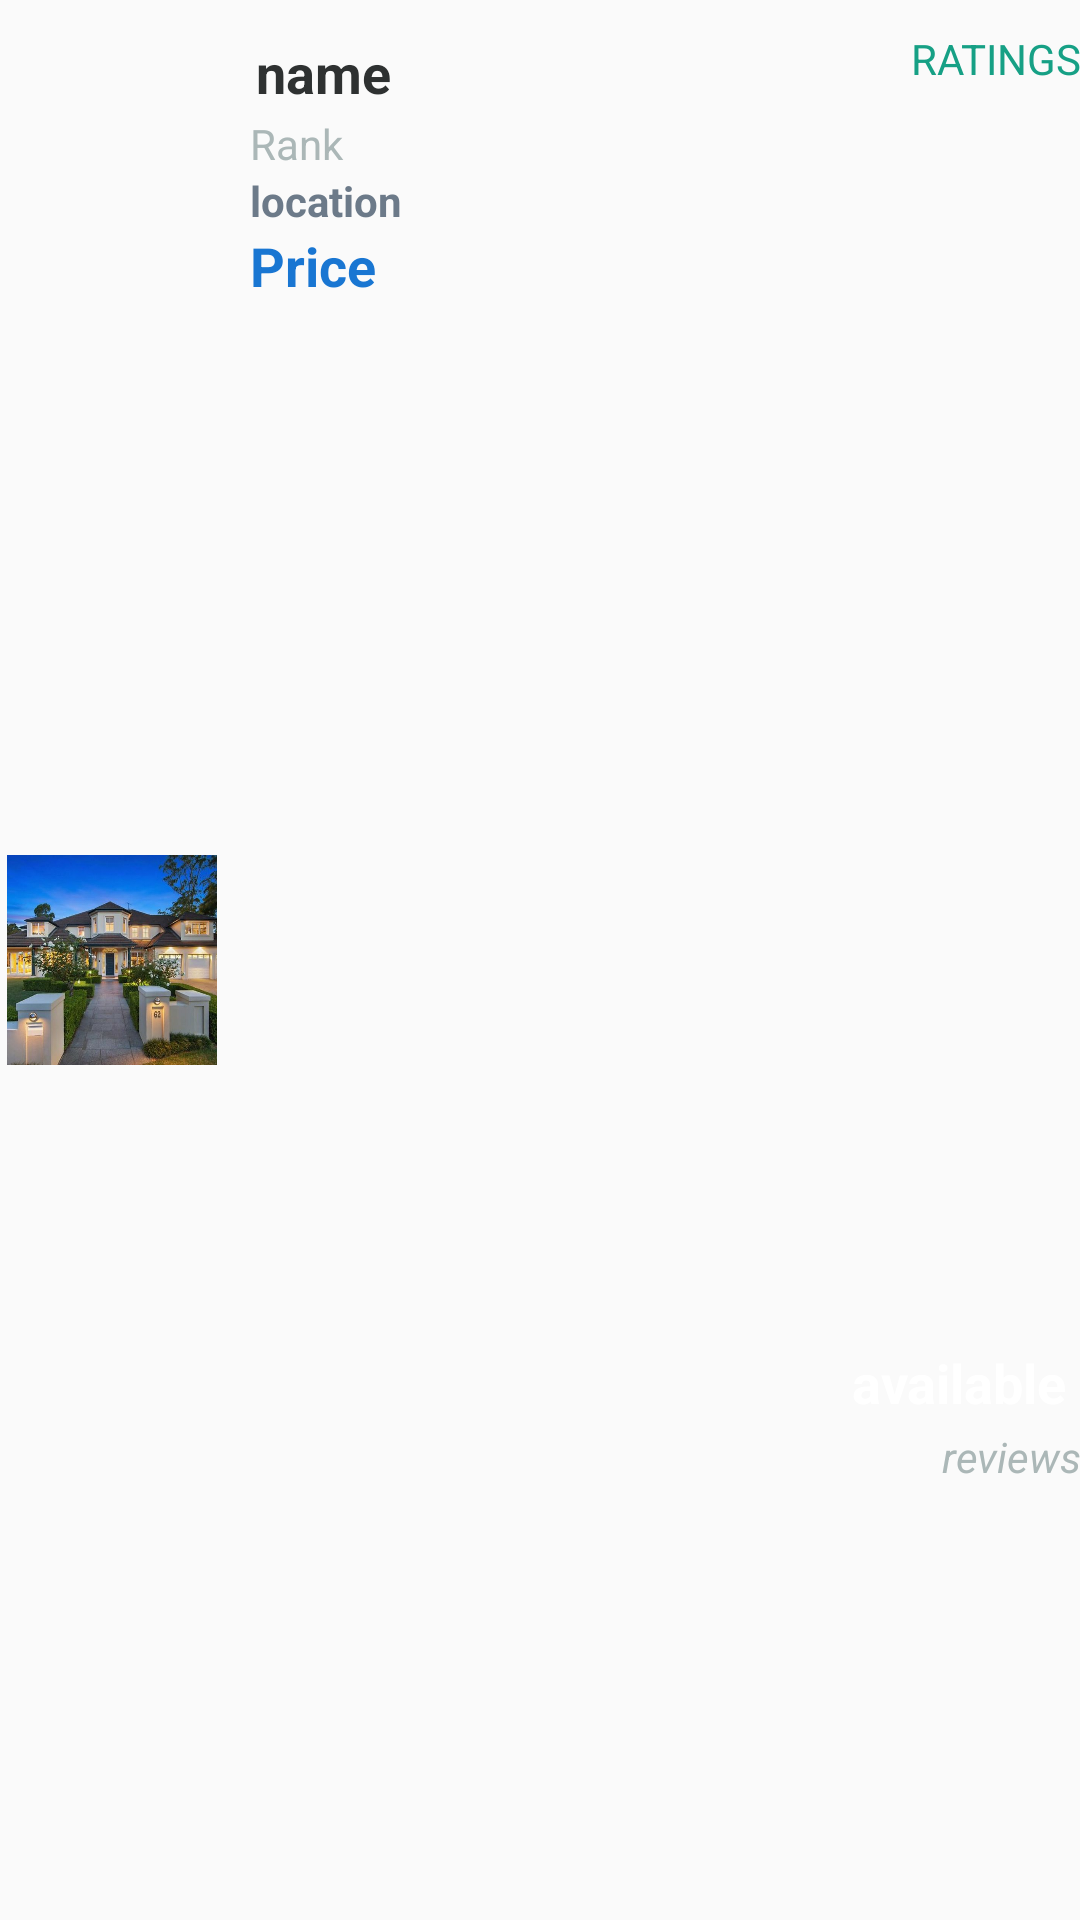

Icons on this 1080 x 1920 Android screen, each with its box as (x1, y1, x2, y2):
mybg: (7, 855, 217, 1065)
